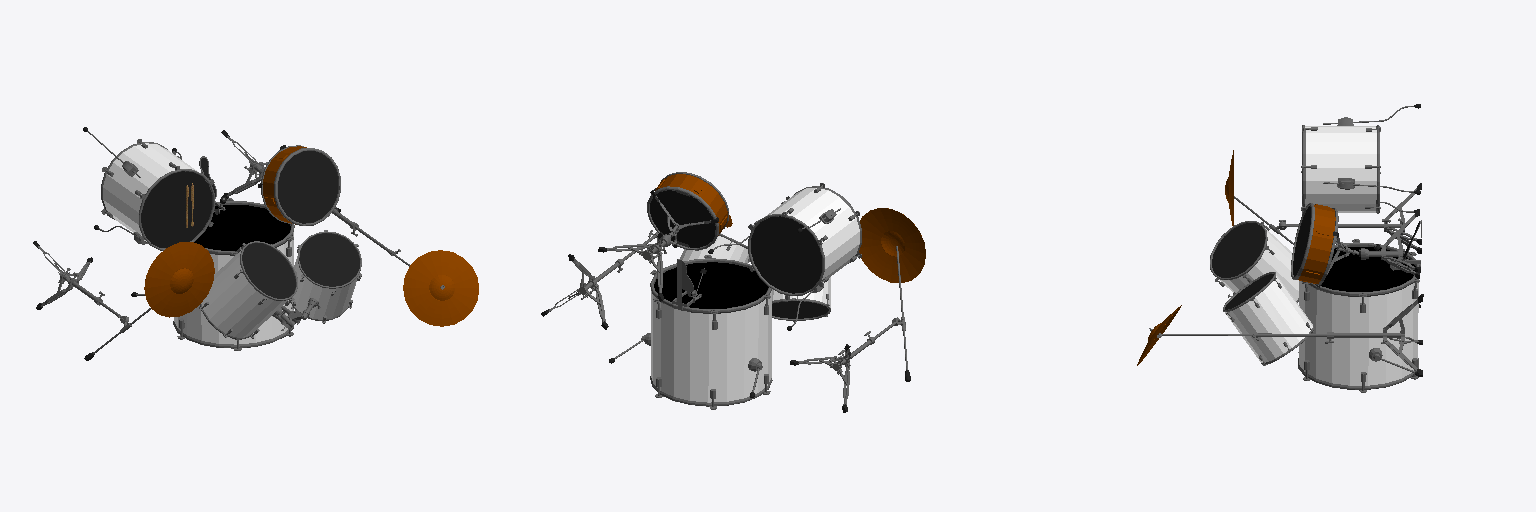
3 views of the same model, side by side, from view 1: azimuth 30°, elevation 25°; view 2: azimuth 150°, elevation 25°; view 3: azimuth 270°, elevation 25° (orthographic).
Visible parts, largest first — view 1: Cymbals, FloorTom_polySurface12, Crash, UpperTom1_polySurface6, BassDrum_polySurface15, FloorTom_polySurface11, polySurface7_Snare, BassDrum_polySurface14, polySurface1_UpperTom2, Snare_polySurface9, UpperTom2_polySurface3, polySurface4_UpperTom1; view 2: BassDrum_polySurface15, Cymbals, FloorTom_polySurface12, polySurface10_FloorTom, Snare_polySurface9, BassDrum_polySurface14, Snare_polySurface8, Crash, UpperTom2_polySurface3, UpperTom1_polySurface5, UpperTom1_polySurface6; view 3: BassDrum_polySurface15, FloorTom_polySurface12, UpperTom2_polySurface3, Snare_polySurface9, BassDrum_polySurface14, UpperTom1_polySurface6, Crash, polySurface4_UpperTom1, Cymbals, polySurface7_Snare.
Part boxes in pixels (bbox=[...]): Cymbals: bbox=[33, 241, 214, 360]; FloorTom_polySurface12: bbox=[83, 127, 214, 250]; Crash: bbox=[328, 207, 478, 326]; UpperTom1_polySurface6: bbox=[199, 241, 297, 339]; BassDrum_polySurface15: bbox=[131, 156, 320, 350]; FloorTom_polySurface11: bbox=[141, 171, 211, 247]; polySurface7_Snare: bbox=[278, 151, 337, 223]; BassDrum_polySurface14: bbox=[194, 205, 290, 250]; polySurface1_UpperTom2: bbox=[299, 233, 359, 286]; Snare_polySurface9: bbox=[221, 130, 340, 225]; UpperTom2_polySurface3: bbox=[289, 230, 361, 323]; polySurface4_UpperTom1: bbox=[242, 243, 295, 298]; BassDrum_polySurface15: bbox=[609, 255, 772, 409]; Cymbals: bbox=[790, 208, 925, 412]; FloorTom_polySurface12: bbox=[708, 183, 861, 330]; polySurface10_FloorTom: bbox=[751, 216, 821, 293]; Snare_polySurface9: bbox=[598, 172, 728, 301]; BassDrum_polySurface14: bbox=[655, 263, 767, 308]; Snare_polySurface8: bbox=[650, 190, 715, 247]; Crash: bbox=[541, 215, 732, 329]; UpperTom2_polySurface3: bbox=[679, 233, 750, 263]; UpperTom1_polySurface5: bbox=[772, 301, 828, 318]; UpperTom1_polySurface6: bbox=[772, 277, 830, 321]; BassDrum_polySurface15: bbox=[1228, 220, 1421, 392]; FloorTom_polySurface12: bbox=[1301, 104, 1420, 213]; UpperTom2_polySurface3: bbox=[1223, 272, 1314, 365]; Snare_polySurface9: bbox=[1291, 203, 1420, 287]; BassDrum_polySurface14: bbox=[1321, 247, 1414, 291]; UpperTom1_polySurface6: bbox=[1210, 221, 1298, 302]; Crash: bbox=[1137, 294, 1423, 376]; polySurface4_UpperTom1: bbox=[1212, 223, 1264, 277]; Cymbals: bbox=[1225, 150, 1421, 253]; polySurface7_Snare: bbox=[1293, 206, 1310, 276].
Size of the model in its own units: 167 by 105 by 133.
Materials: 6 (1 with a texture image).